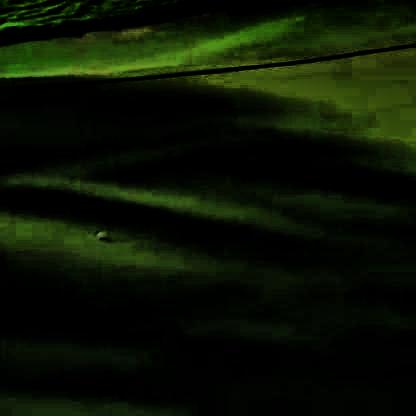golfball: (94, 228, 104, 238)
